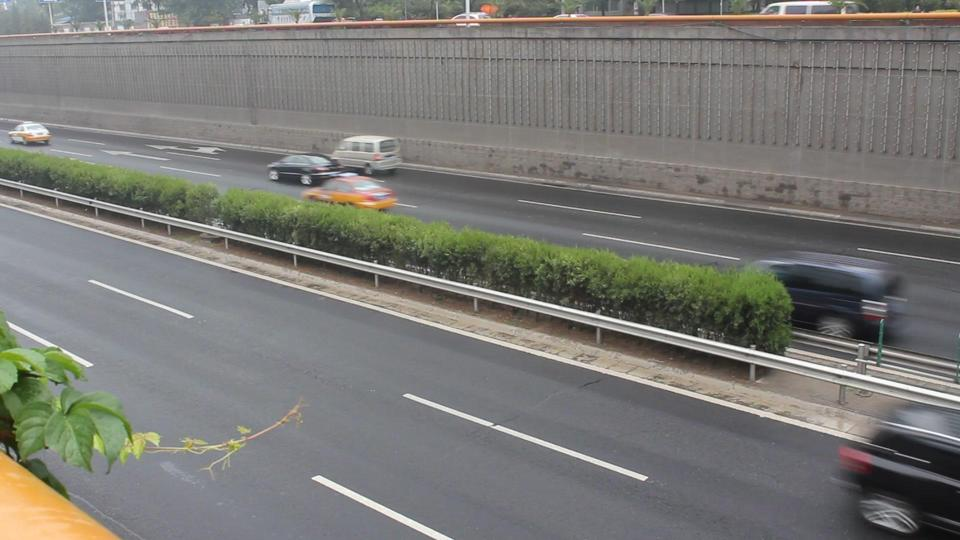bus: (259, 2, 341, 29)
car: (833, 401, 959, 539), (753, 251, 907, 339), (303, 175, 399, 211), (267, 153, 359, 186), (758, 0, 859, 15), (9, 122, 53, 145)
truck: (330, 135, 402, 177)
